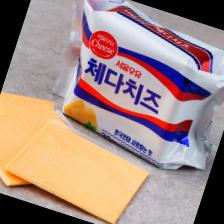cheese: (0, 108, 158, 224)
